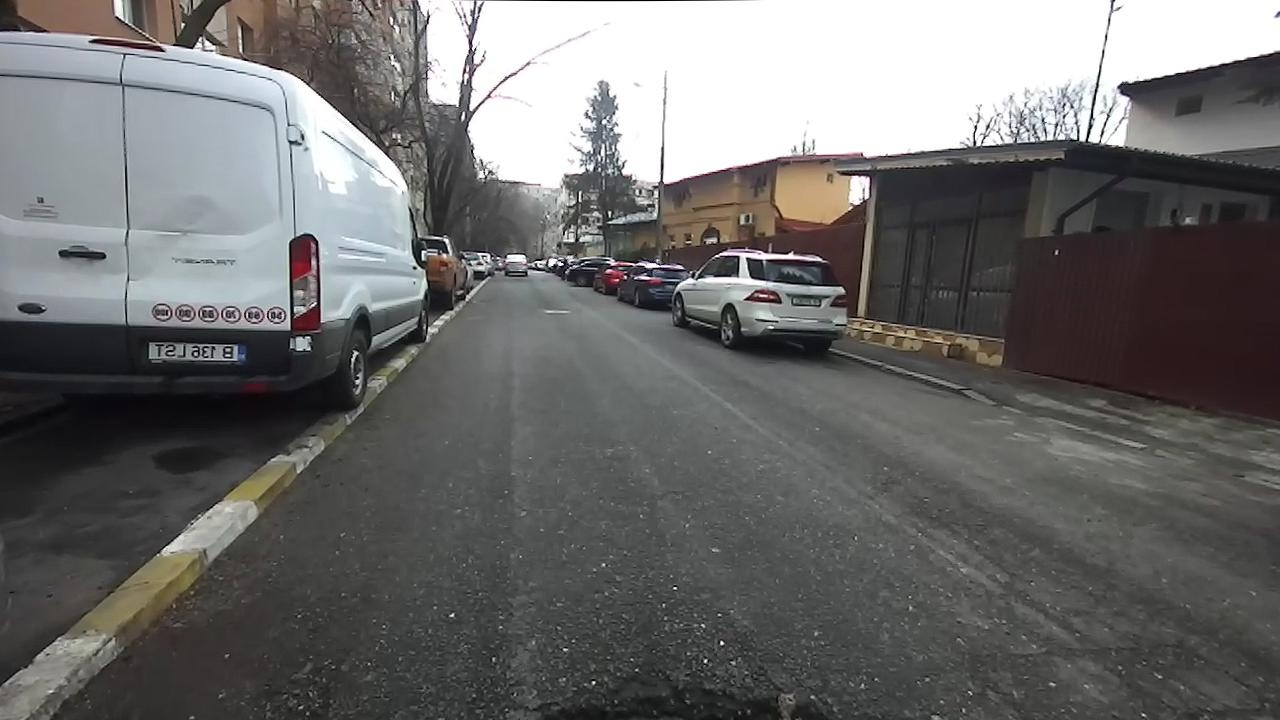pothole: (480, 670, 860, 719)
